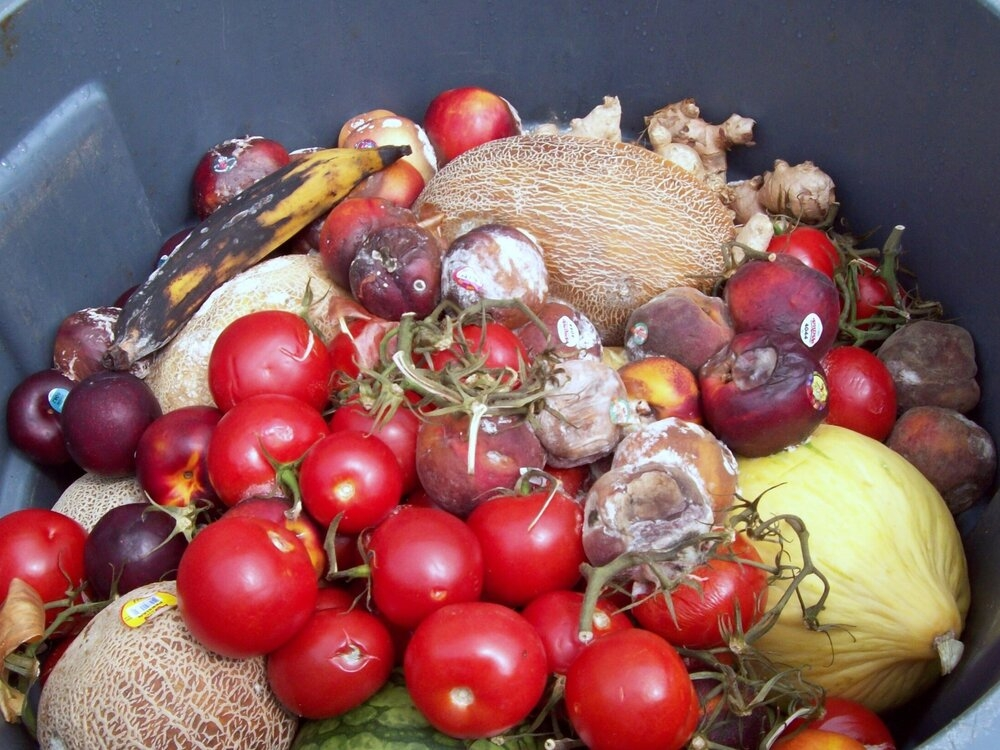kitchen_waste: (720, 414, 982, 716), (105, 133, 416, 361), (409, 130, 745, 323), (28, 572, 309, 750), (569, 410, 750, 578), (391, 593, 551, 737), (178, 511, 319, 661), (619, 514, 767, 650), (199, 385, 340, 512), (561, 627, 709, 747), (397, 395, 552, 509), (527, 355, 671, 476), (198, 304, 351, 416), (693, 330, 837, 449), (357, 506, 498, 625), (267, 604, 404, 723), (467, 485, 609, 598), (426, 220, 564, 333), (715, 150, 853, 254), (639, 87, 759, 202), (725, 249, 855, 350), (288, 426, 404, 534), (889, 401, 1000, 513), (176, 125, 300, 223), (343, 223, 460, 326), (875, 314, 998, 410), (135, 406, 243, 510), (621, 275, 741, 368), (86, 493, 191, 599), (335, 97, 446, 196), (1, 500, 88, 624), (69, 372, 183, 464), (415, 80, 537, 164), (819, 333, 905, 450), (604, 341, 721, 426), (753, 685, 905, 750), (47, 292, 150, 381), (320, 195, 433, 268), (5, 371, 84, 470), (762, 210, 851, 280)
